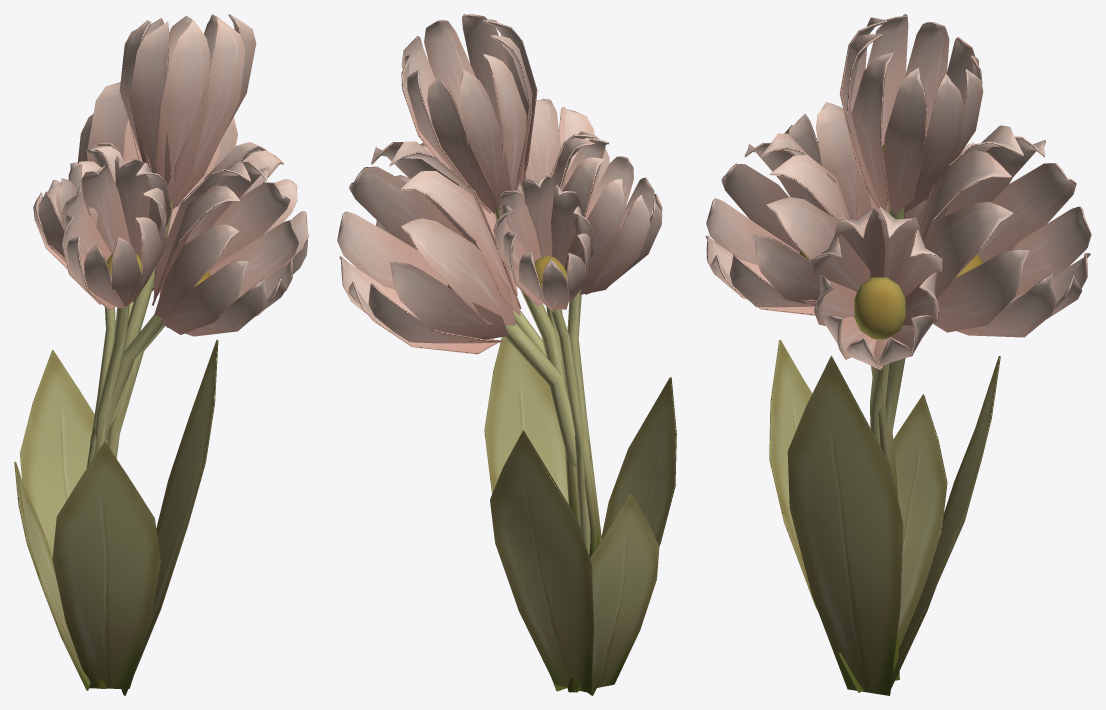
The model's file is Plant02.fbx.
3 views of the same model, side by side, from view 1: azimuth 30°, elevation 25°; view 2: azimuth 150°, elevation 25°; view 3: azimuth 270°, elevation 25° (orthographic). The views are drawn at different scales.
Visible parts, largest first — view 1: flower15; view 2: flower15; view 3: flower15.
Boxes of the visible parts, x1,y1,x2,y2 form: flower15: (14,14,308,695); flower15: (337,14,676,695); flower15: (705,14,1091,695).
Bounding box in the file's own units: 16.04 × 36.74 × 17.98.
